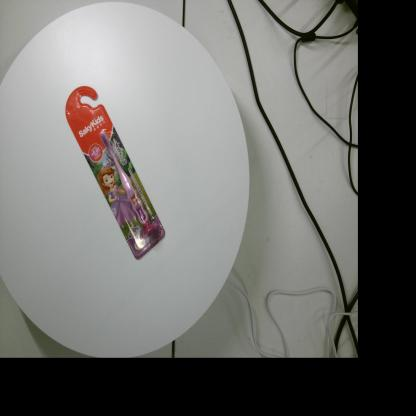Personal Hygiene: (65, 86, 165, 260)
